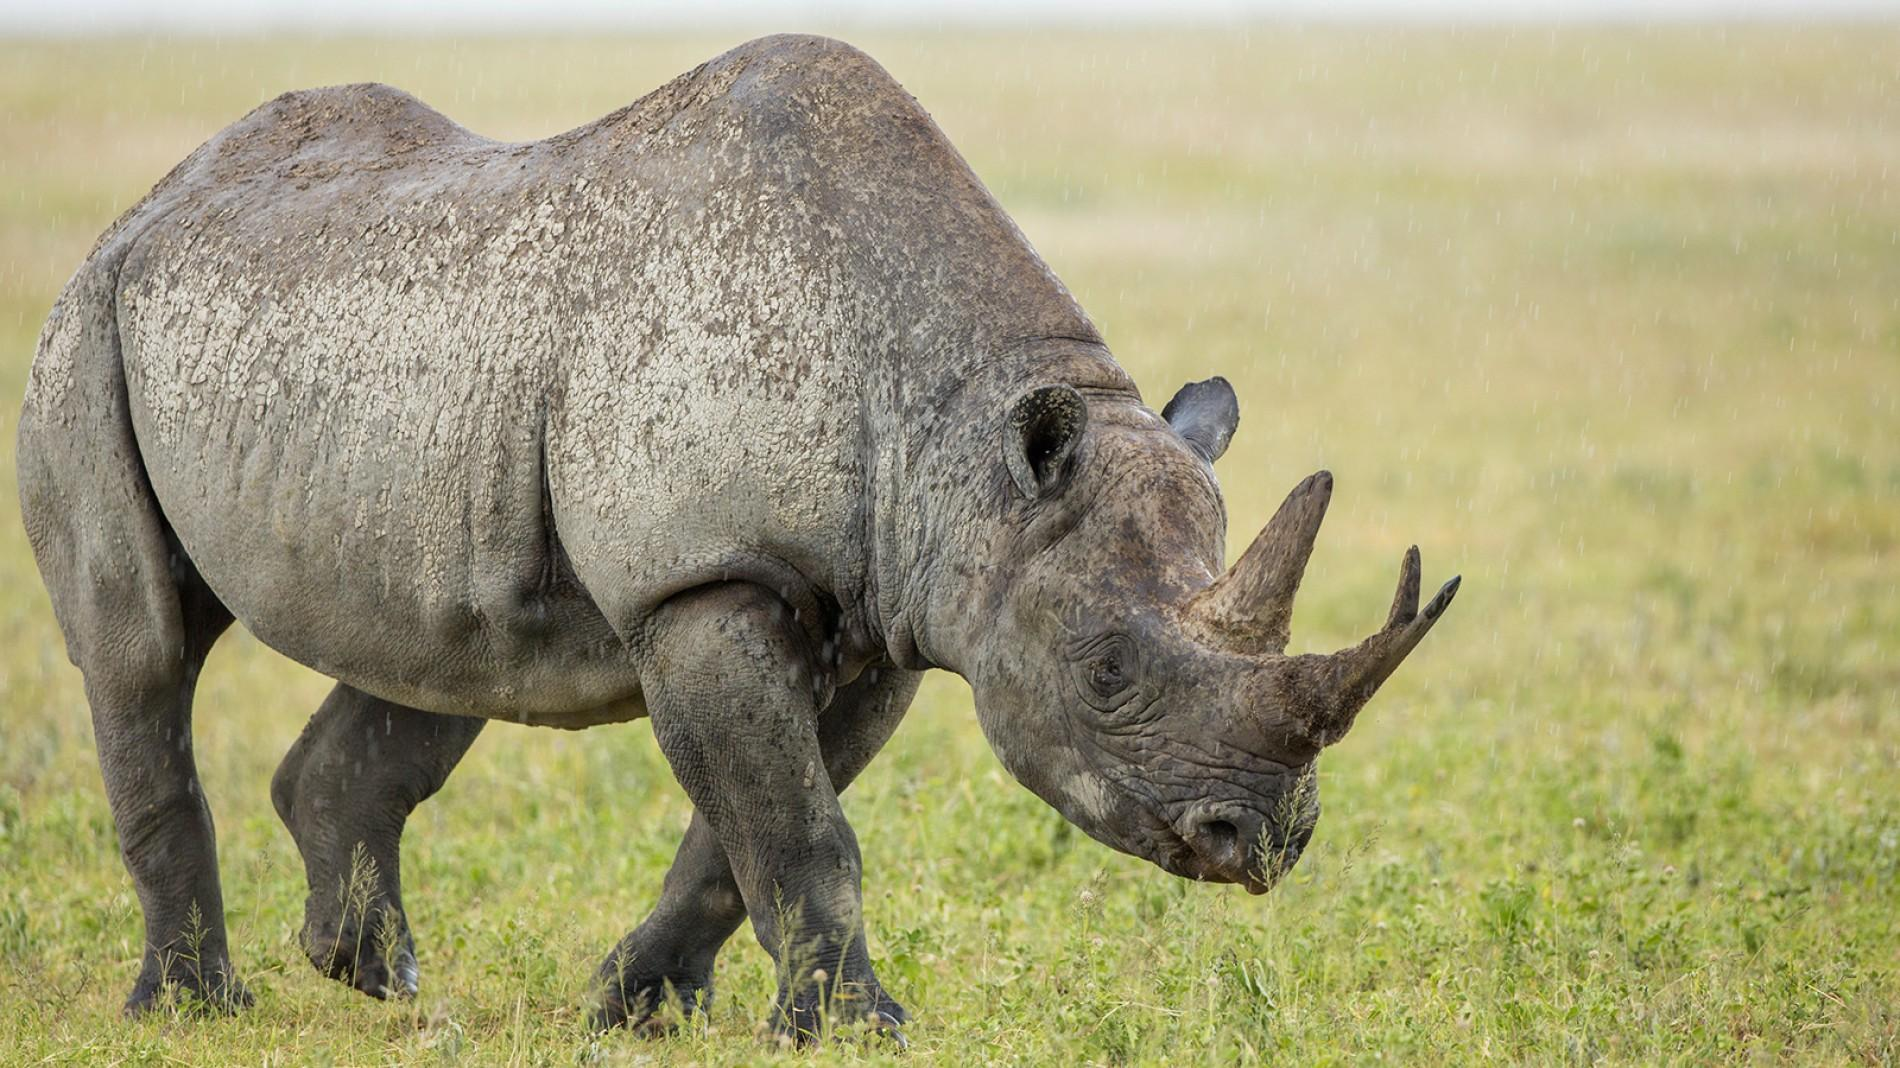rhinoceros: (1, 37, 1459, 1018)
